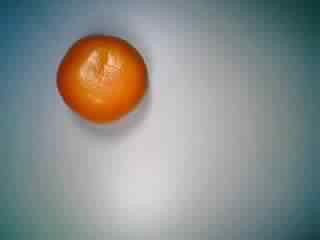orange: (55, 31, 151, 127)
